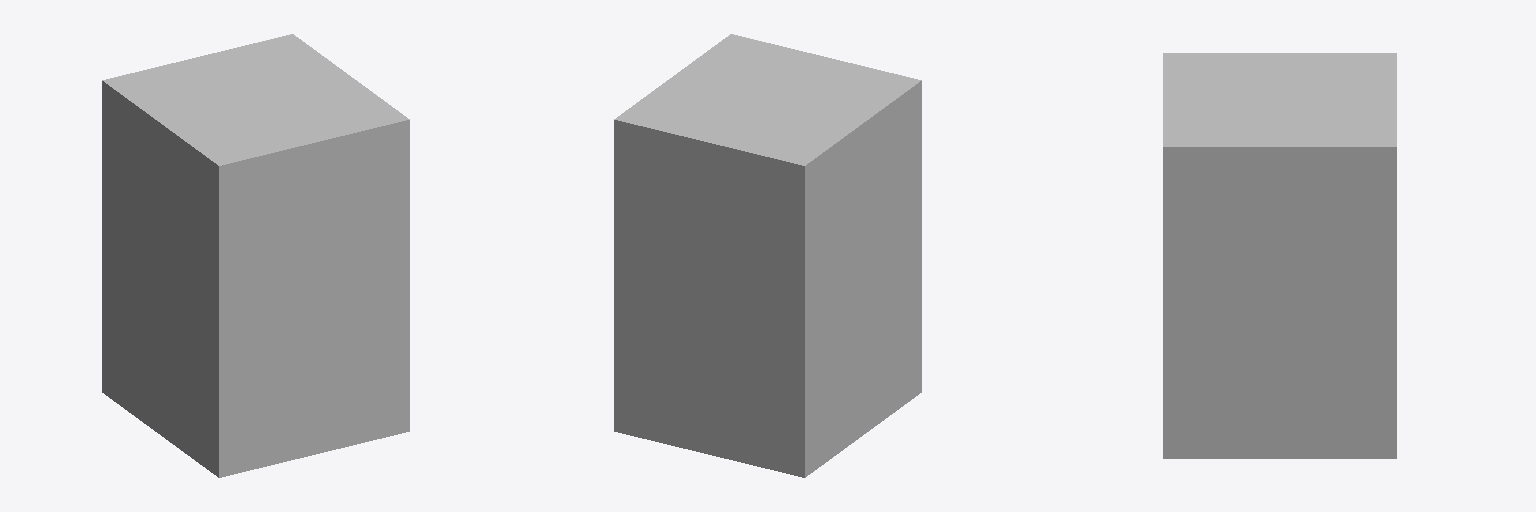
The model's file is owl bear-3.obj.
3 renders of one model, left to right at view 1: azimuth 30°, elevation 25°; view 2: azimuth 150°, elevation 25°; view 3: azimuth 270°, elevation 25°, orthographic.
Visible parts, largest first — view 1: object 1; view 2: object 1; view 3: object 1.
Part boxes in pixels (bbox=[...]): object 1: bbox=[102, 34, 409, 477]; object 1: bbox=[614, 34, 921, 477]; object 1: bbox=[1163, 53, 1396, 458].
Size of the model in its own units: 1.6 by 2.5 by 1.7.